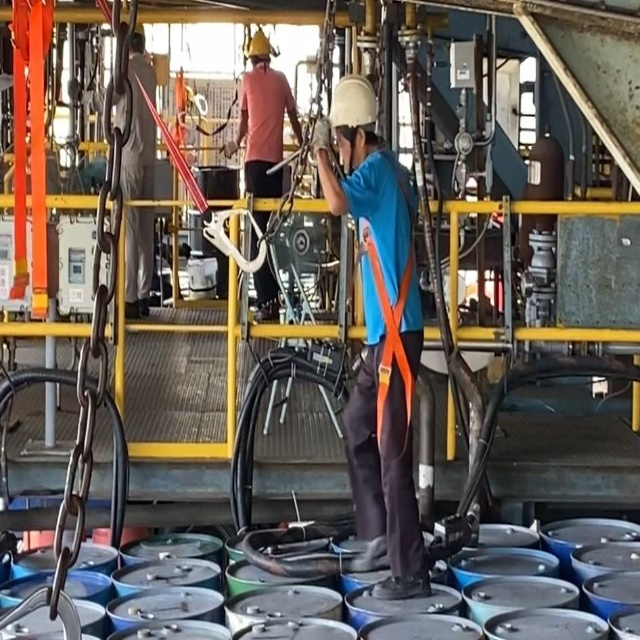Arnes_seguridad: (353, 161, 419, 454)
